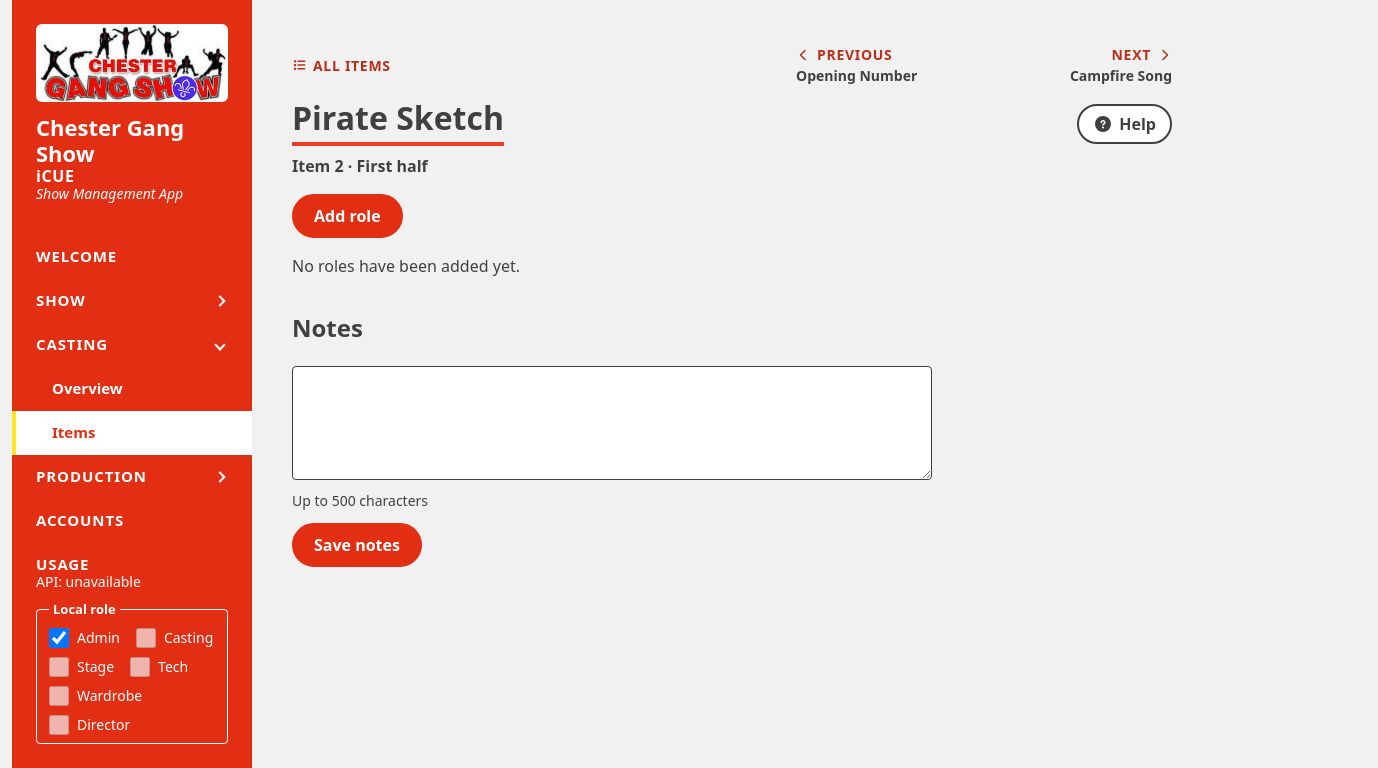
Test: Adding roles to an item › adds a role with its name and size, replacing the empty state
Click the button with test id "add-role": {"x": 347, "y": 216} x1=292 y1=194 x2=403 y2=238
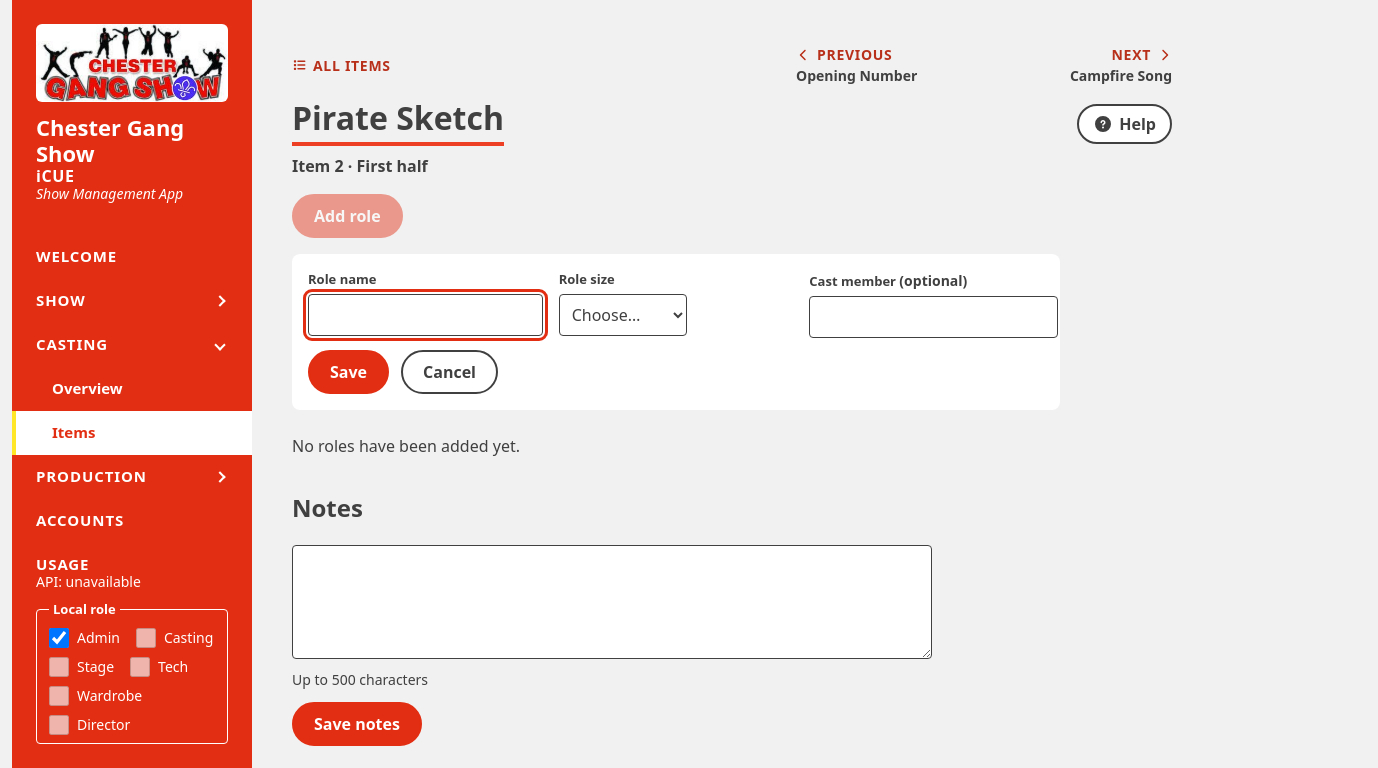
In the field named "name": {"x": 425, "y": 314} x1=308 y1=294 x2=543 y2=336, type "Captain Hook"
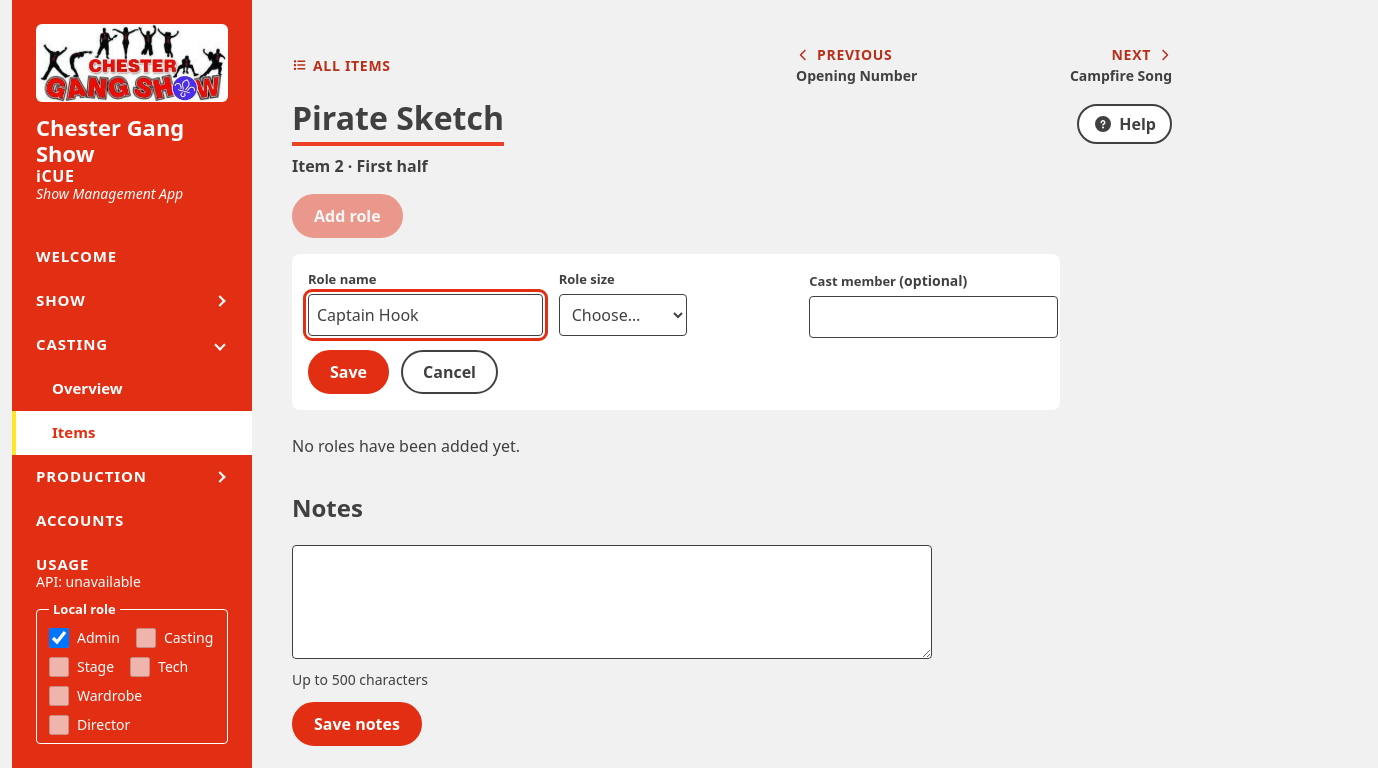
Select "Lead" in the dropdown named "size": {"x": 623, "y": 314} x1=559 y1=294 x2=687 y2=336
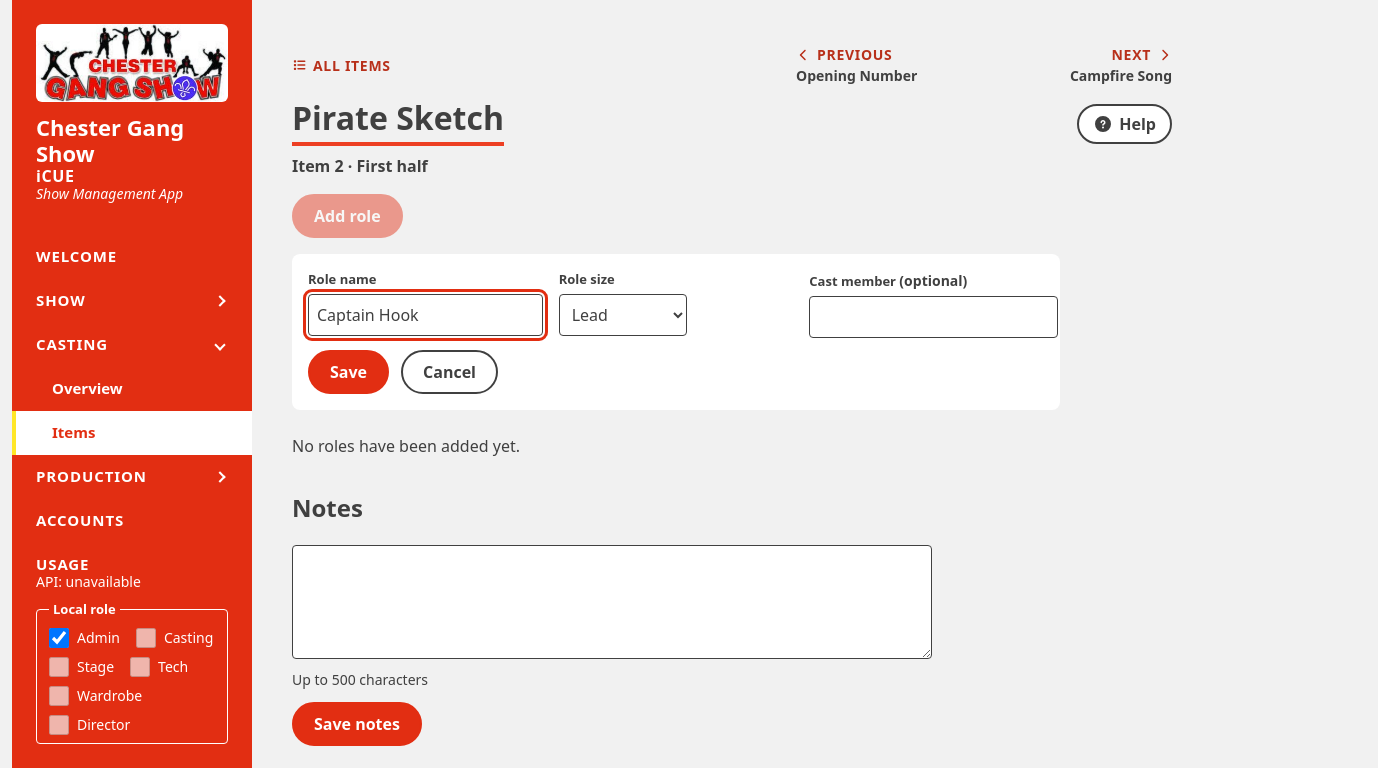
Submit the form named "Add role", box x1=292 y1=254 x2=1060 y2=410
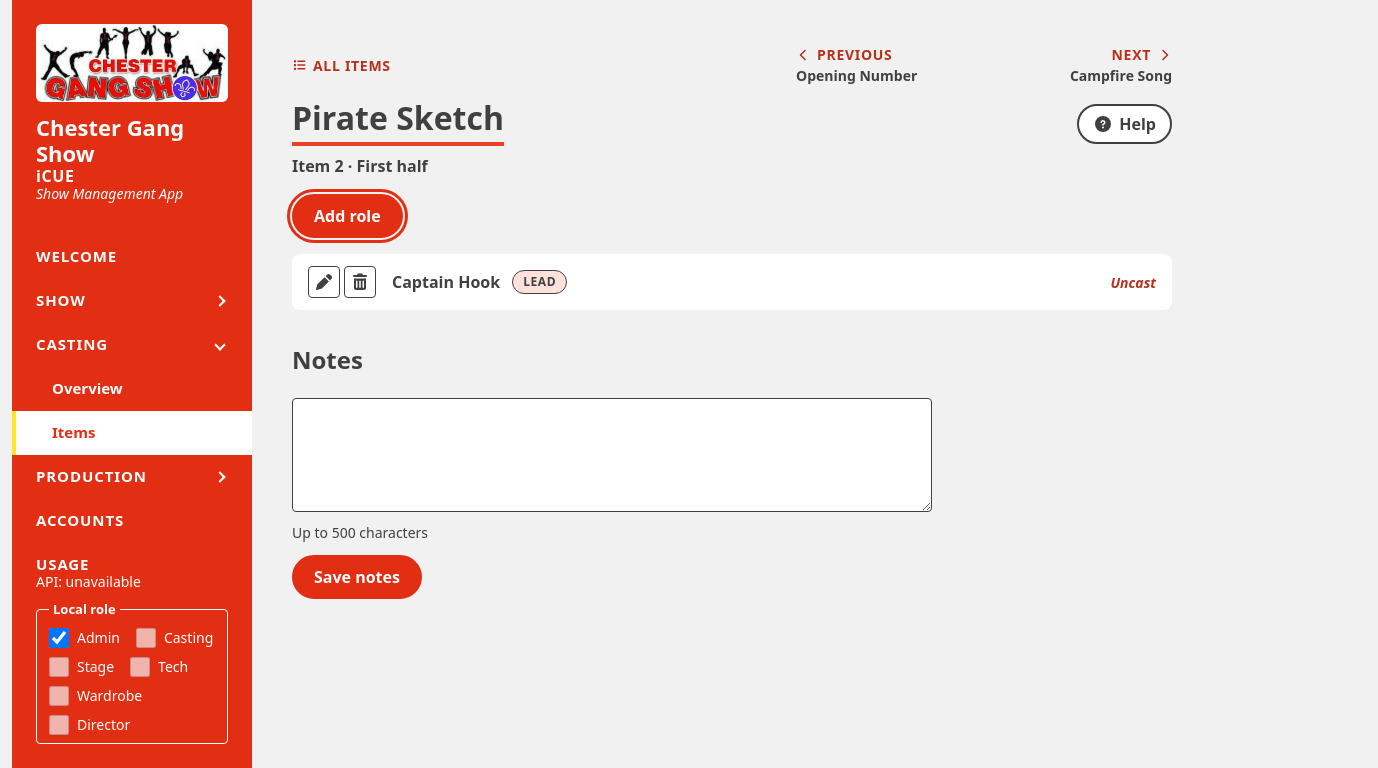
Expected: the text "No roles have been added yet." is gone
